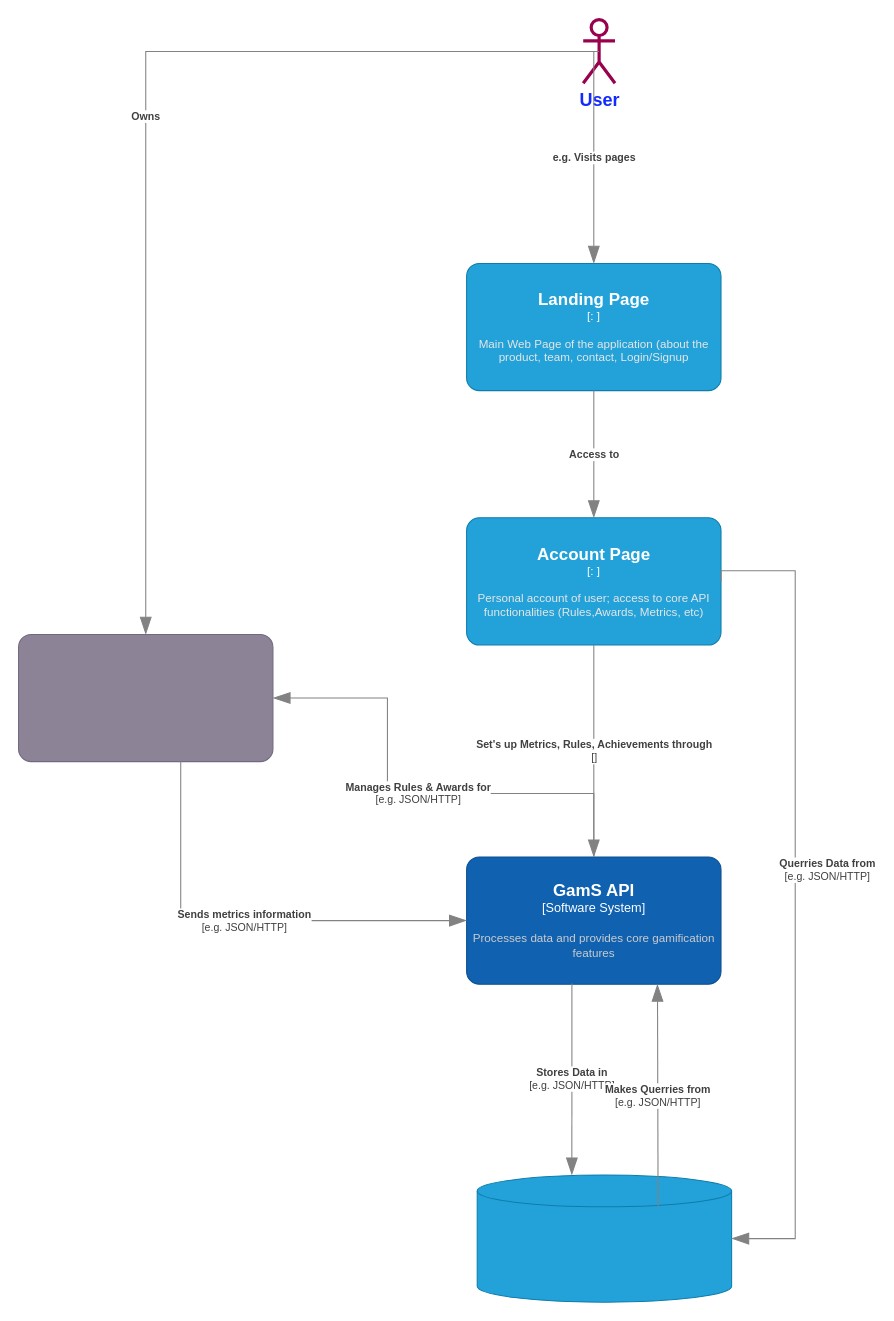
Some shapes in this 894 by 1321 pixel diagram are drawn without their labels. The centre of each missing label's shape, as x and y in pixels:
"[Database: Oracle Database 12]" belongs at (604,1238).
"Customer Application [Software System] Customer's Web application" belongs at (145,697).
